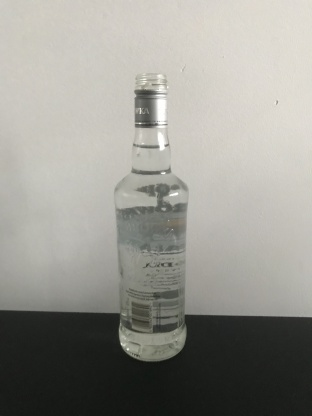nakretka: (132, 71, 169, 128)
